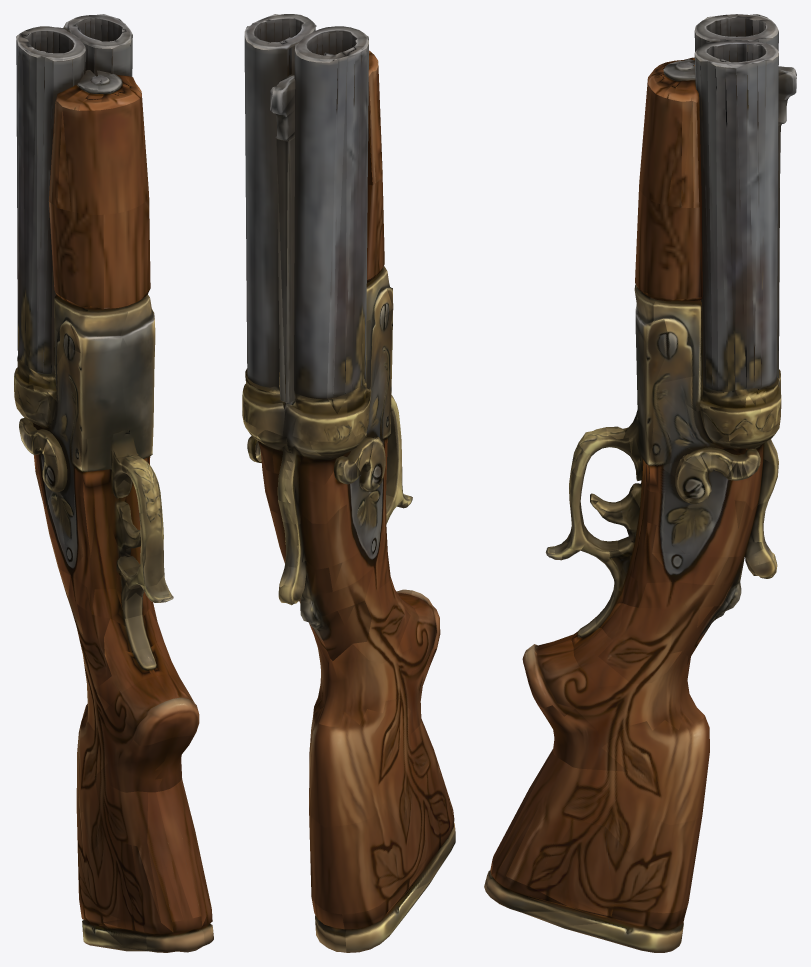
File: Weapon_Scattergun.fbx
The picture shows the model from 3 angles, left to right: view 1: azimuth 30°, elevation 25°; view 2: azimuth 150°, elevation 25°; view 3: azimuth 270°, elevation 25°; orthographic projection. The views are drawn at different scales.
Parts seen in each view (by area): view 1: Weapon_Scattergun; view 2: Weapon_Scattergun; view 3: Weapon_Scattergun.
Boxes of the visible parts, x1,y1,x2,y2 form: Weapon_Scattergun: (14, 14, 213, 952); Weapon_Scattergun: (242, 14, 455, 952); Weapon_Scattergun: (484, 14, 796, 952).
Size of the model in its own units: 0.0793 by 0.62 by 0.1938.
